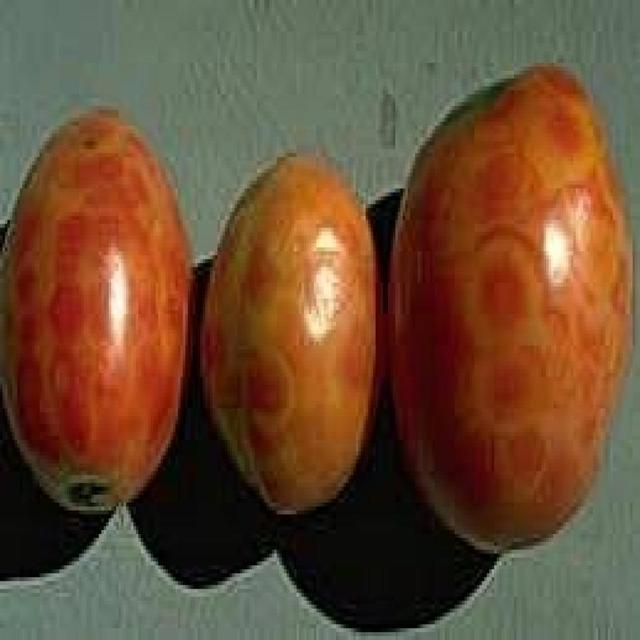Spotted wilt Virus Fruit: (64, 204, 342, 326)
